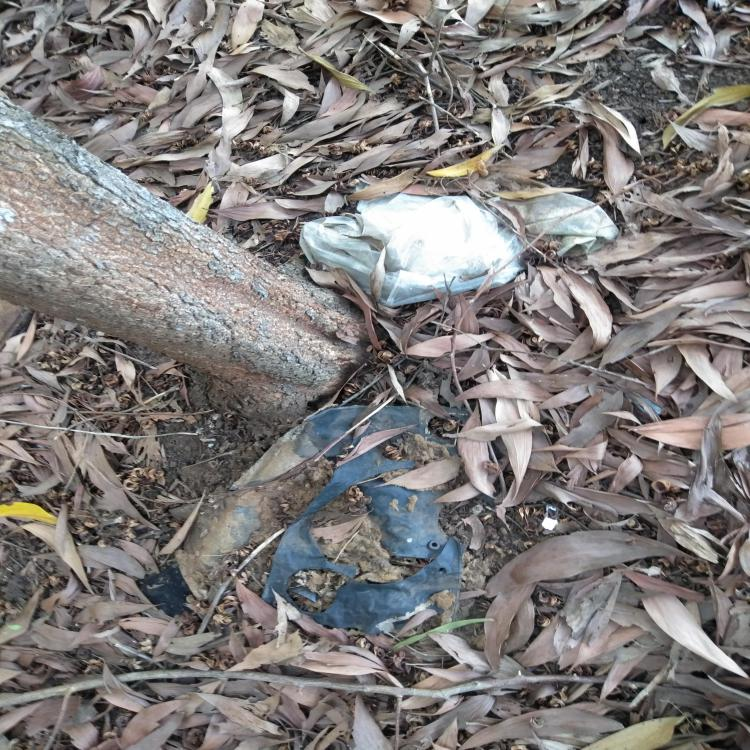Other plastic wrapper: (170, 406, 468, 637)
Plastic film: (300, 193, 525, 307), (475, 192, 622, 257)
